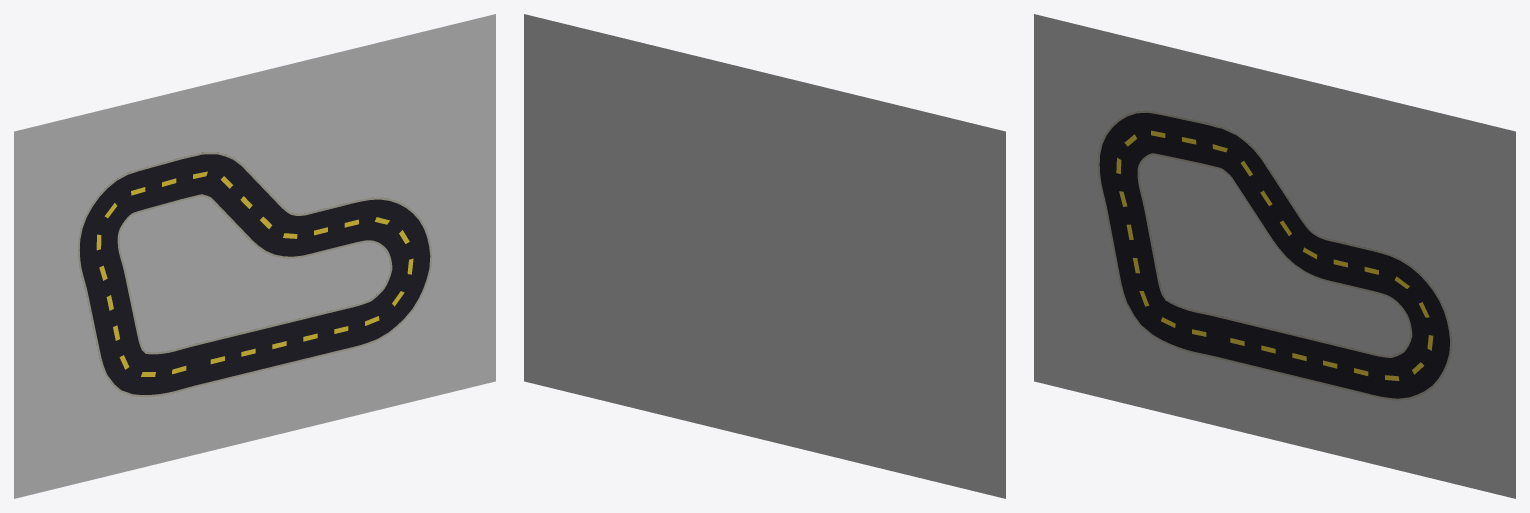
The model's file is track.obj.
3 views of the same model, side by side, from view 1: azimuth 30°, elevation 25°; view 2: azimuth 150°, elevation 25°; view 3: azimuth 330°, elevation 25° (orthographic).
Bounding box in the file's own units: 10.14 × 7.39 × 0.0025.
